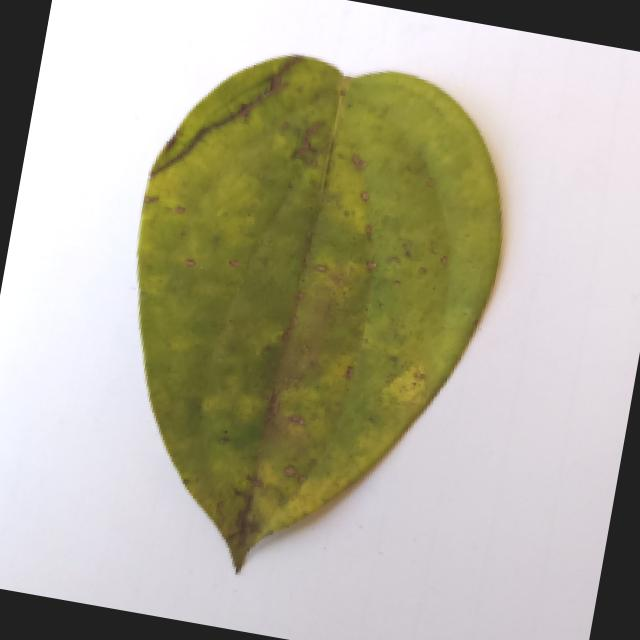slow-decline: (66, 25, 543, 608)
